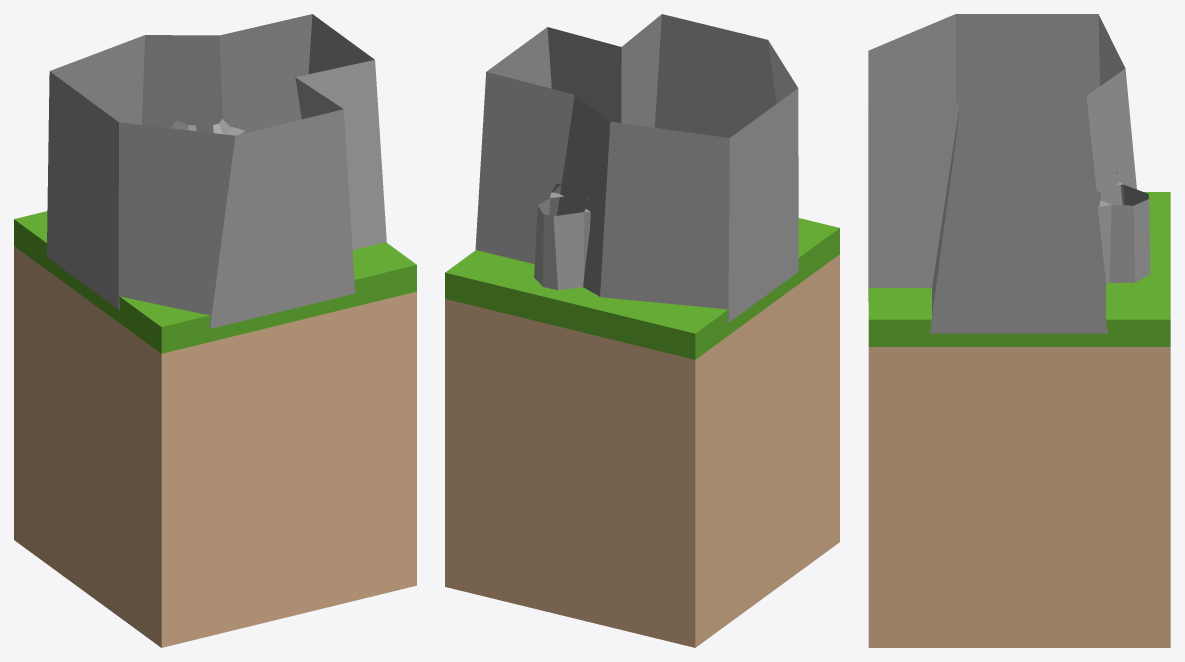
File: Mountains3.fbx
3 renders of one model, left to right at view 1: azimuth 30°, elevation 25°; view 2: azimuth 150°, elevation 25°; view 3: azimuth 270°, elevation 25°, orthographic. The views are drawn at different scales.
Parts seen in each view (by area): view 1: Cube, Cylinder; view 2: Cube, Cylinder; view 3: Cube, Cylinder.
Boxes of the visible parts, x1,y1,x2,y2 form: Cube: [14, 211, 416, 647]; Cylinder: [46, 14, 386, 328]; Cube: [445, 218, 839, 647]; Cylinder: [475, 14, 798, 322]; Cube: [868, 192, 1170, 647]; Cylinder: [868, 14, 1150, 333].
Size of the model in its own units: 100 by 185 by 100.
